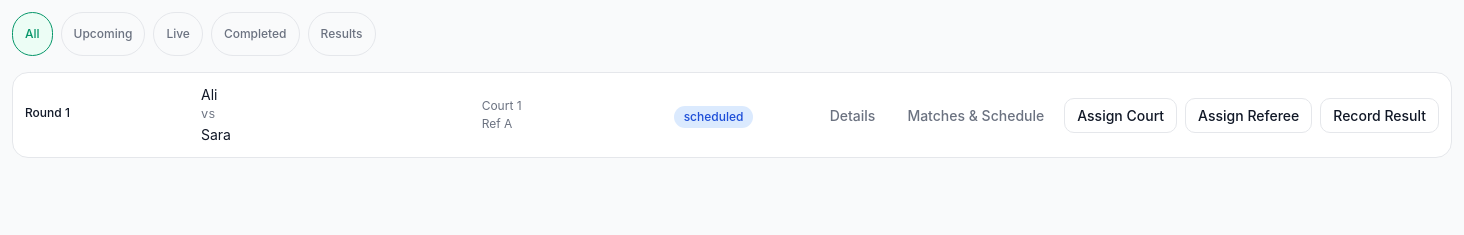
Tournament Hub Results management (Step 3F) › 11. empty results state
Step 1. Click the button "Results" → (342,34), box x1=308 y1=12 x2=376 y2=56
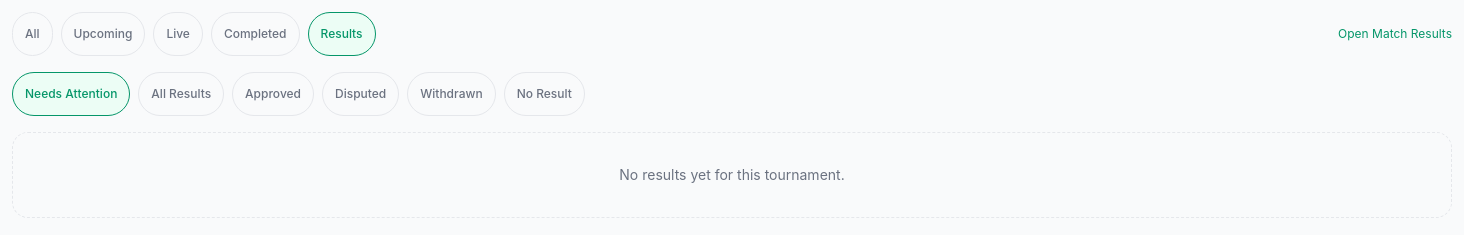
Now the text "No results yet for this tournament." is shown, box x1=12 y1=132 x2=1452 y2=218
